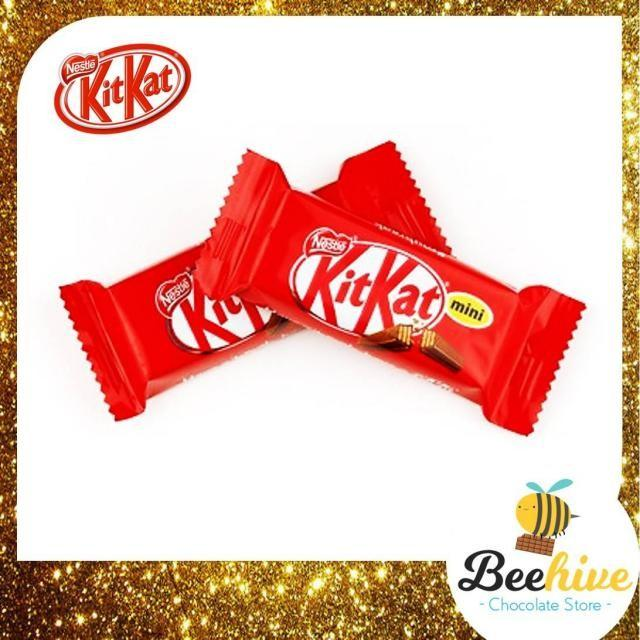kitkat_chocolate: (113, 125, 397, 457), (257, 157, 568, 410)
